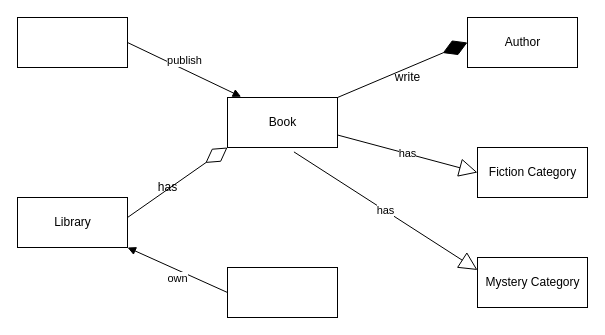
This 605x335 diagram has some shape labels left out. Each missing label, with the centre of its shape:
"Owner" belongs at point (282, 292).
"Publisher" belongs at point (72, 42).
